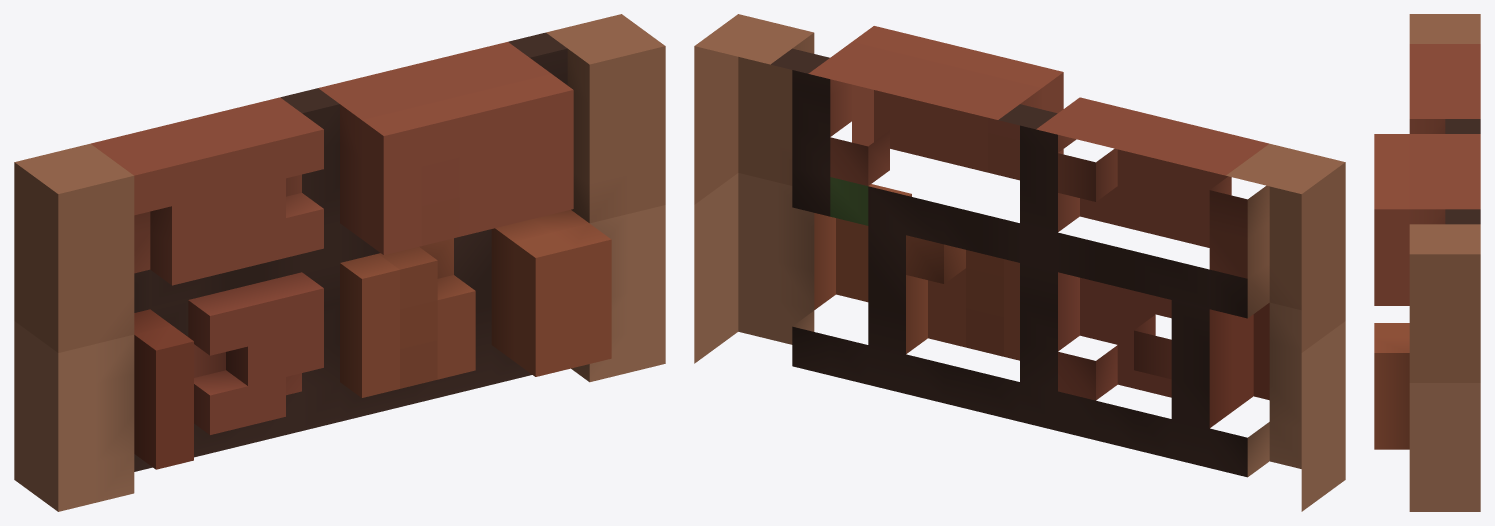
File: wall_plain_1.glb
The picture shows the model from 3 angles, left to right: view 1: azimuth 30°, elevation 25°; view 2: azimuth 150°, elevation 25°; view 3: azimuth 270°, elevation 25°; orthographic projection. The views are drawn at different scales.
Parts seen in each view (by area): view 1: wall_plain_1; view 2: wall_plain_1; view 3: wall_plain_1.
Boxes of the visible parts, x1,y1,x2,y2 form: wall_plain_1: (14, 14, 665, 511); wall_plain_1: (694, 14, 1345, 511); wall_plain_1: (1374, 14, 1480, 511).
Bounding box in the file's own units: 1 × 0.5 × 0.1875.
